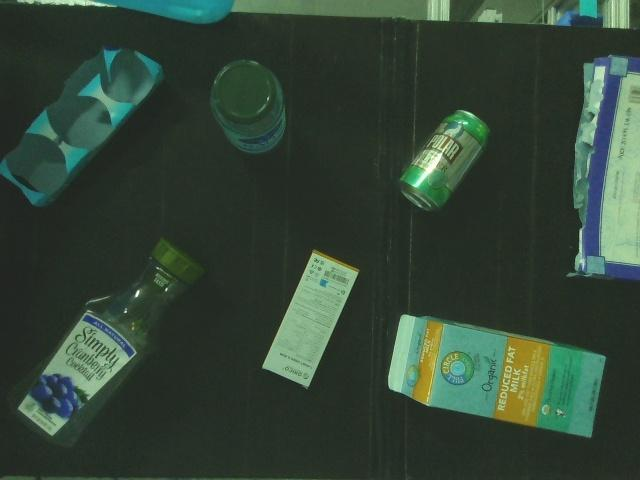cardboard: (383, 309, 609, 442), (0, 42, 173, 213), (564, 50, 640, 290), (258, 246, 364, 395)
glass: (205, 55, 292, 161)
metal: (392, 103, 496, 218)
plastic: (2, 232, 215, 456)
